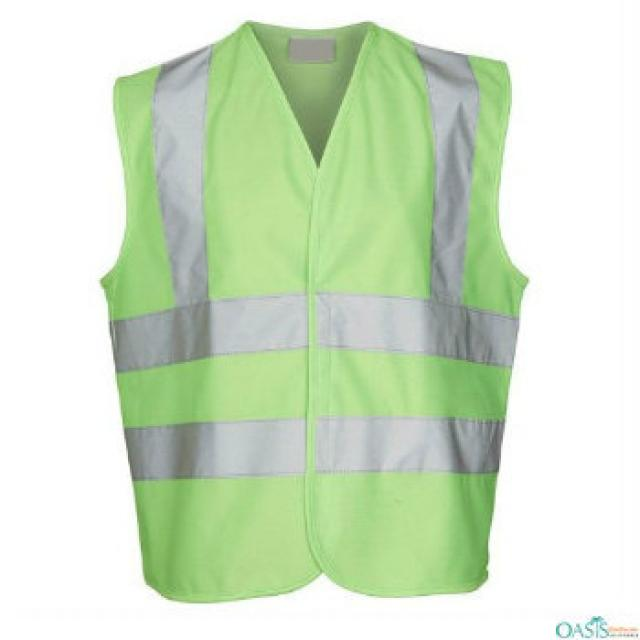Reflective-Jacket: (53, 16, 560, 622)
